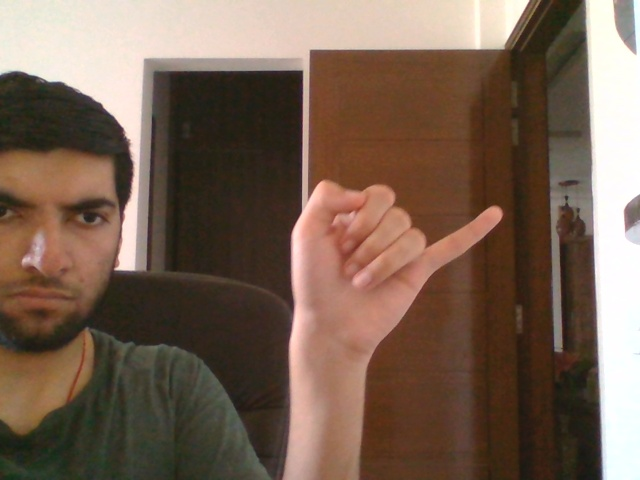LetterJ: (290, 179, 503, 359)
